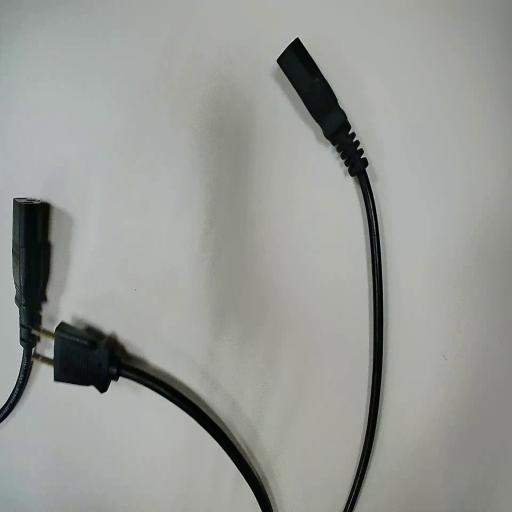wire: (278, 39, 382, 511), (42, 323, 272, 511), (0, 201, 50, 421)
